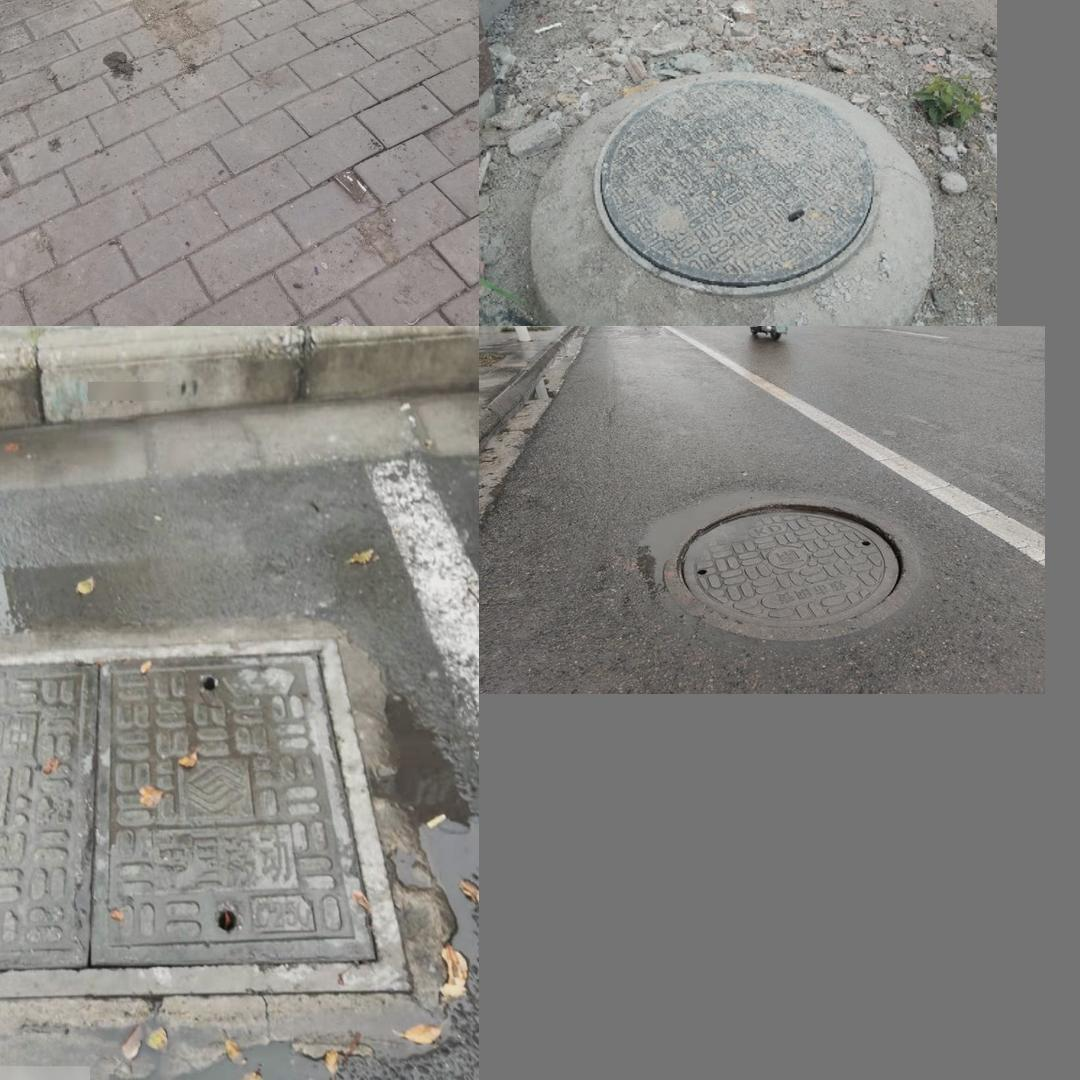good: (0, 635, 413, 999), (593, 80, 879, 298), (626, 484, 927, 646)
